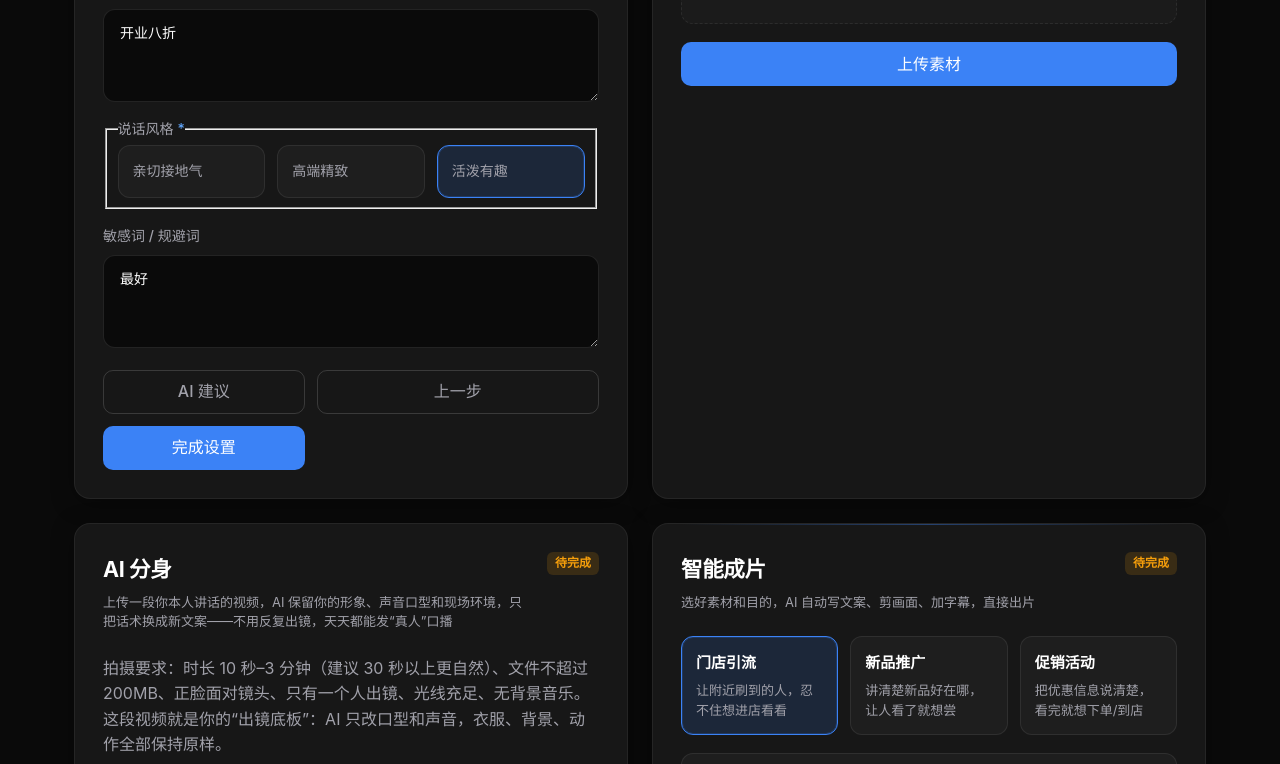
Test case: AI video assistant dashboard › restores the store profile form from the API after a completed save and refresh
(page scrolled)
Check: the radio button labelled "活泼有趣" is checked, box 437,145 -> 584,198
Click the button "上一步": [458, 392] box 317,370 -> 599,414
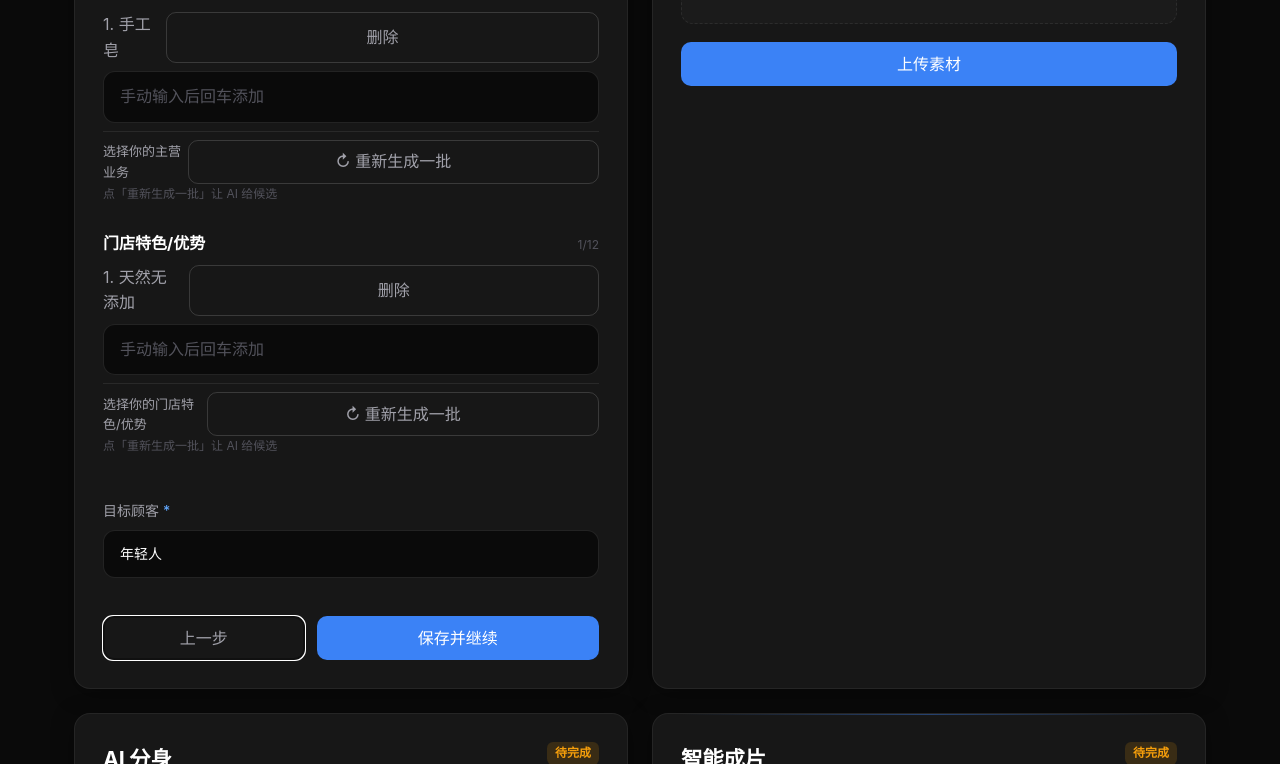
Click the button "上一步": [204, 638] box 103,616 -> 305,660
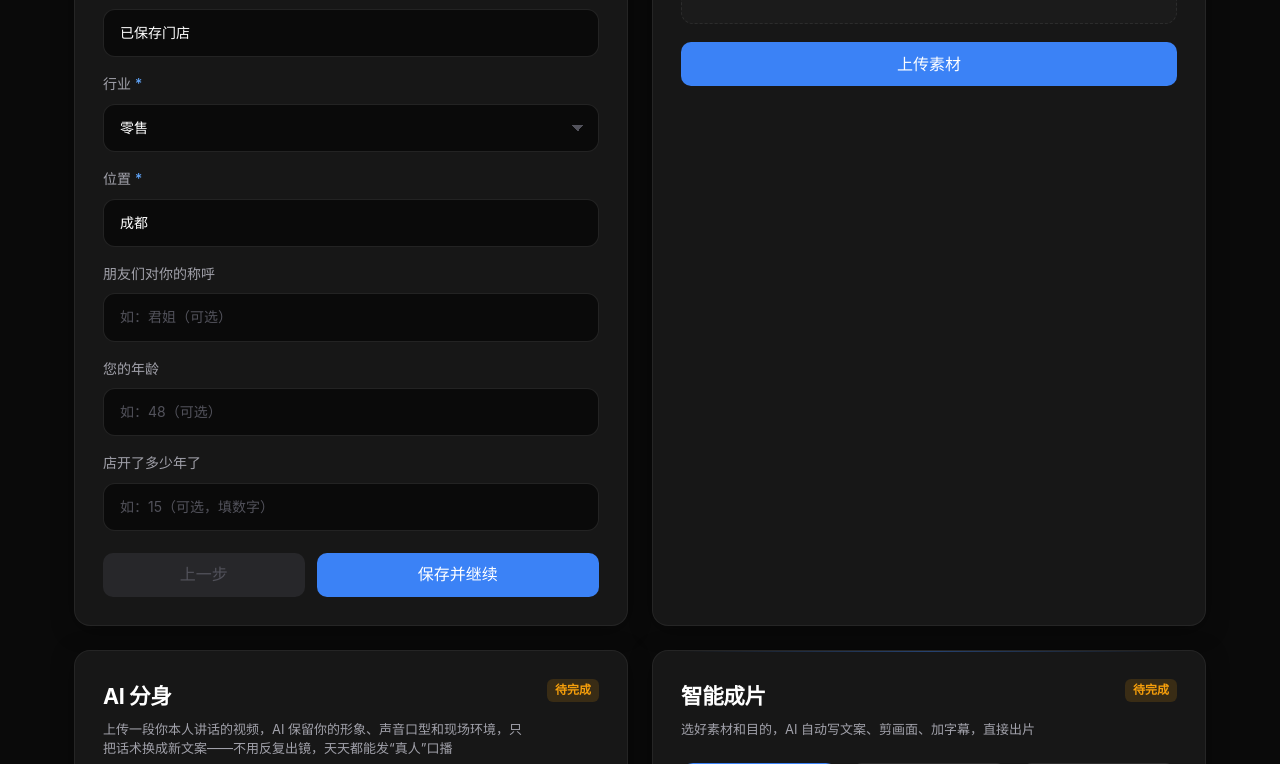
Check: the field labelled "门店名称*" holds "已保存门店", box 103,9 -> 599,57
Check: the field labelled "位置*" holds "成都", box 103,198 -> 599,247
